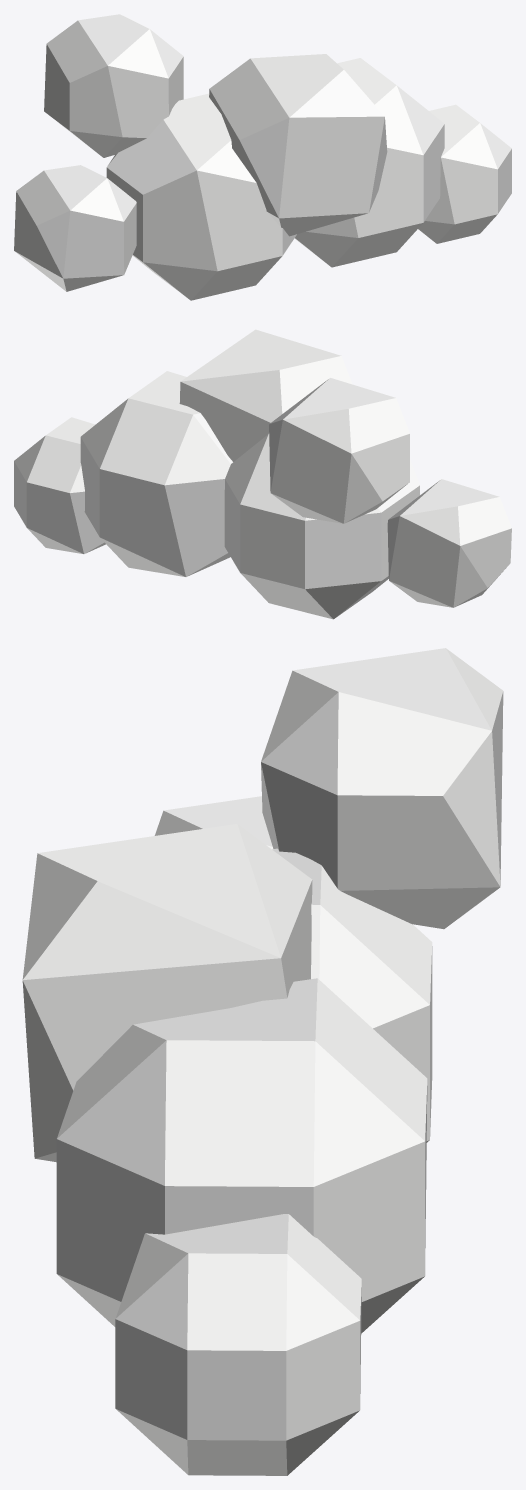
File: Cloud_v14.fbx
3 renders of one model, top to bottom at view 1: azimuth 30°, elevation 25°; view 2: azimuth 150°, elevation 25°; view 3: azimuth 270°, elevation 25°, orthographic. The views are drawn at different scales.
Parts seen in each view (by area): view 1: Cloud_v14; view 2: Cloud_v14; view 3: Cloud_v14.
Part boxes in pixels (<box>): Cloud_v14: <box>14,14,511,300</box>; Cloud_v14: <box>14,329,511,619</box>; Cloud_v14: <box>22,648,503,1475</box>.
Size of the model in its own units: 42.23 by 21.31 by 18.66.
1 material, 1 textured.
